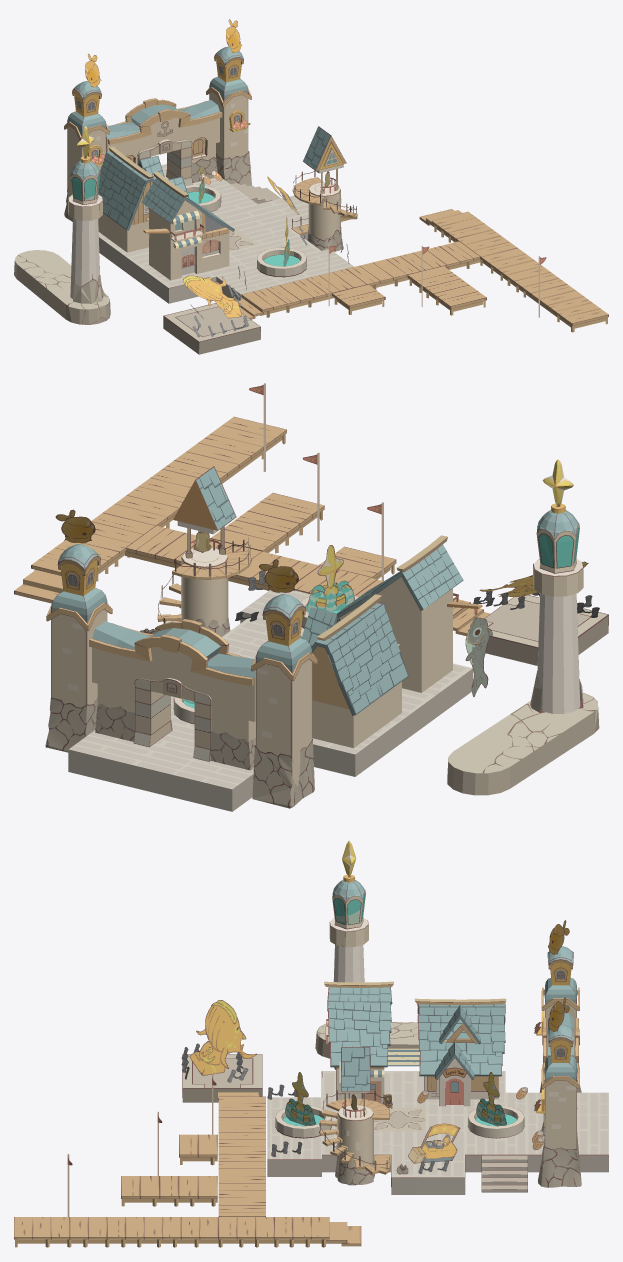
File: Mesh_Home_Port_SM.FBX
3 renders of one model, top to bottom at view 1: azimuth 30°, elevation 25°; view 2: azimuth 150°, elevation 25°; view 3: azimuth 270°, elevation 25°, orthographic. The views are drawn at different scales.
Visible parts, largest first — view 1: Mesh_Home_Port; view 2: Mesh_Home_Port; view 3: Mesh_Home_Port.
Part boxes in pixels (box(x1,y1,x2,y2)): Mesh_Home_Port: box(14, 19, 608, 354); Mesh_Home_Port: box(14, 383, 608, 811); Mesh_Home_Port: box(14, 840, 608, 1247).
Bounding box in the file's own units: 1284 × 577 × 1487.
Materials: 2 (2 with a texture image).
